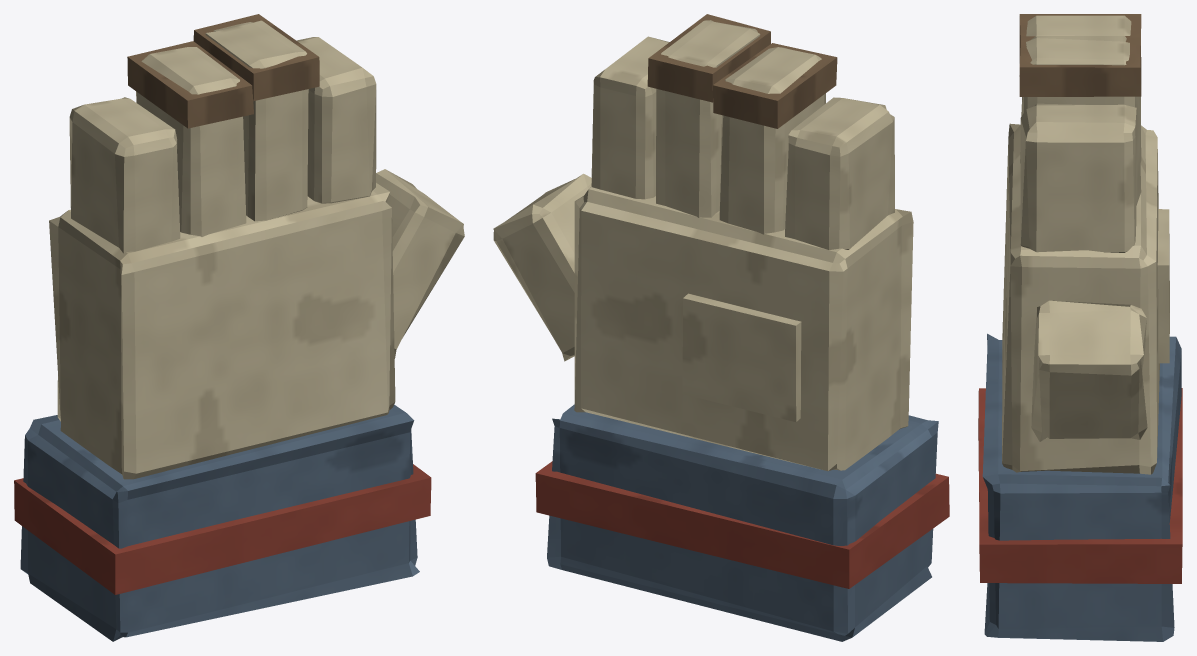
The model's file is work_gloves.glb.
3 renders of one model, left to right at view 1: azimuth 30°, elevation 25°; view 2: azimuth 150°, elevation 25°; view 3: azimuth 270°, elevation 25°, orthographic.
Visible parts, largest first — view 1: WorkGloves; view 2: WorkGloves; view 3: WorkGloves.
Part boxes in pixels (x1=…): WorkGloves: x1=14, y1=14, x2=464, y2=641; WorkGloves: x1=493, y1=14, x2=949, y2=641; WorkGloves: x1=978, y1=14, x2=1182, y2=641.
Bounding box in the file's own units: 0.3948 × 0.5244 × 0.1797.
Materials: 4 (4 with a texture image).
